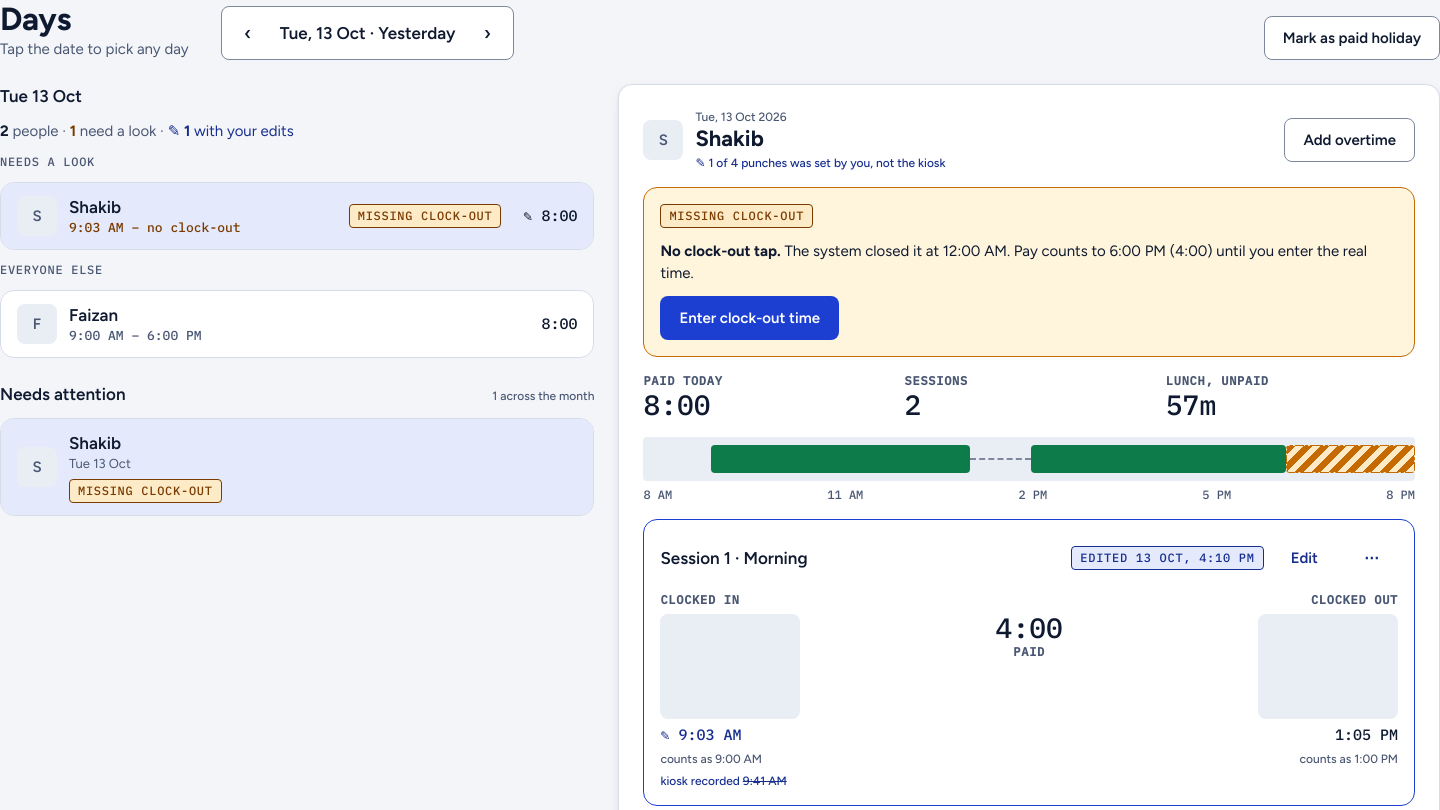
Test: Days › refuses a clock-out before the clock-in in the board's words, and writes nothing
The image size is (1440, 810).
Step 1. Click the button "Enter clock-out time" → {"x": 750, "y": 318}, box [660,296,839,340]
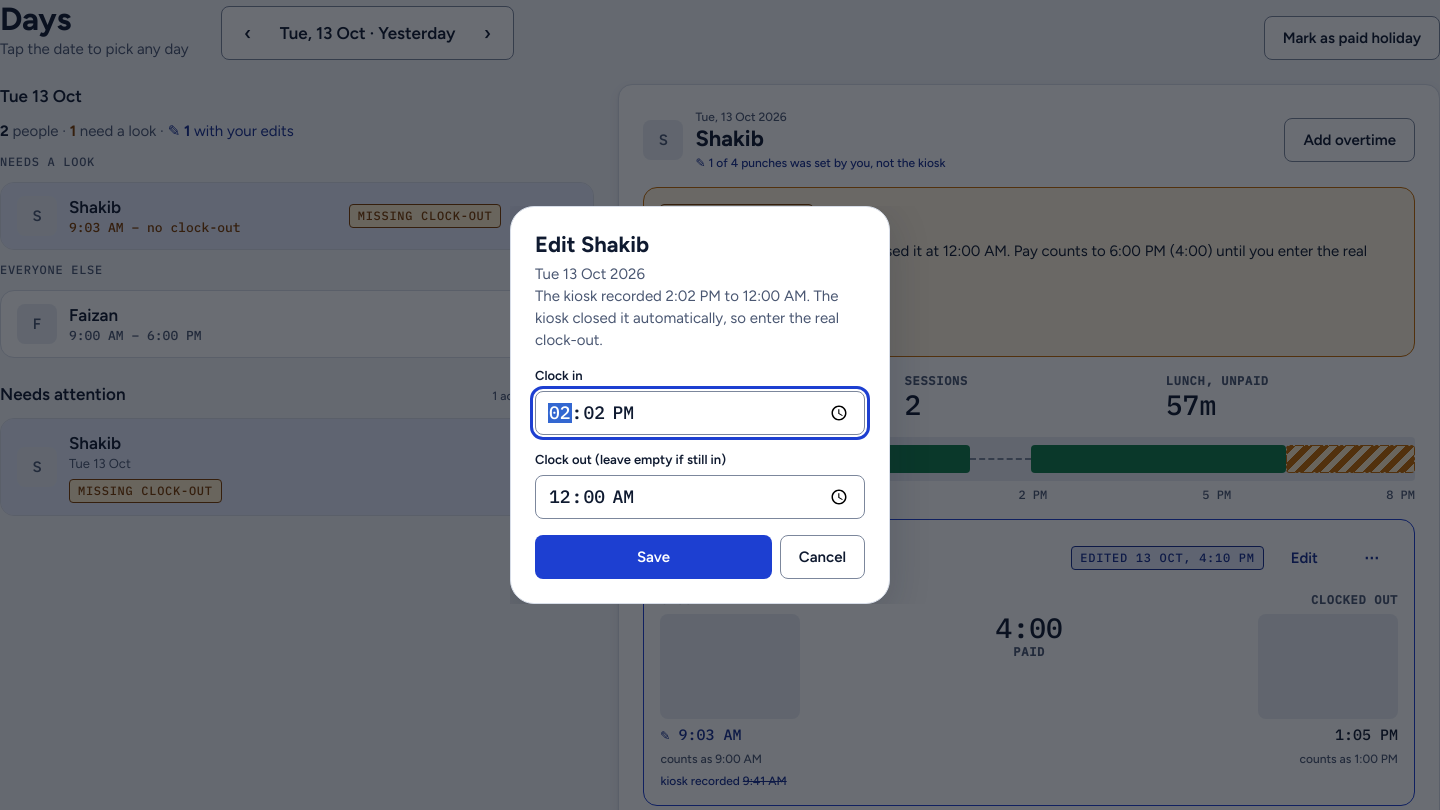
Now the dialog is shown, box [510,206,930,604]
Step 2. Replace the text in the time field labelled "Clock out (leave empty if still in)" with "13:30" → {"x": 700, "y": 497}, box [535,475,865,519]
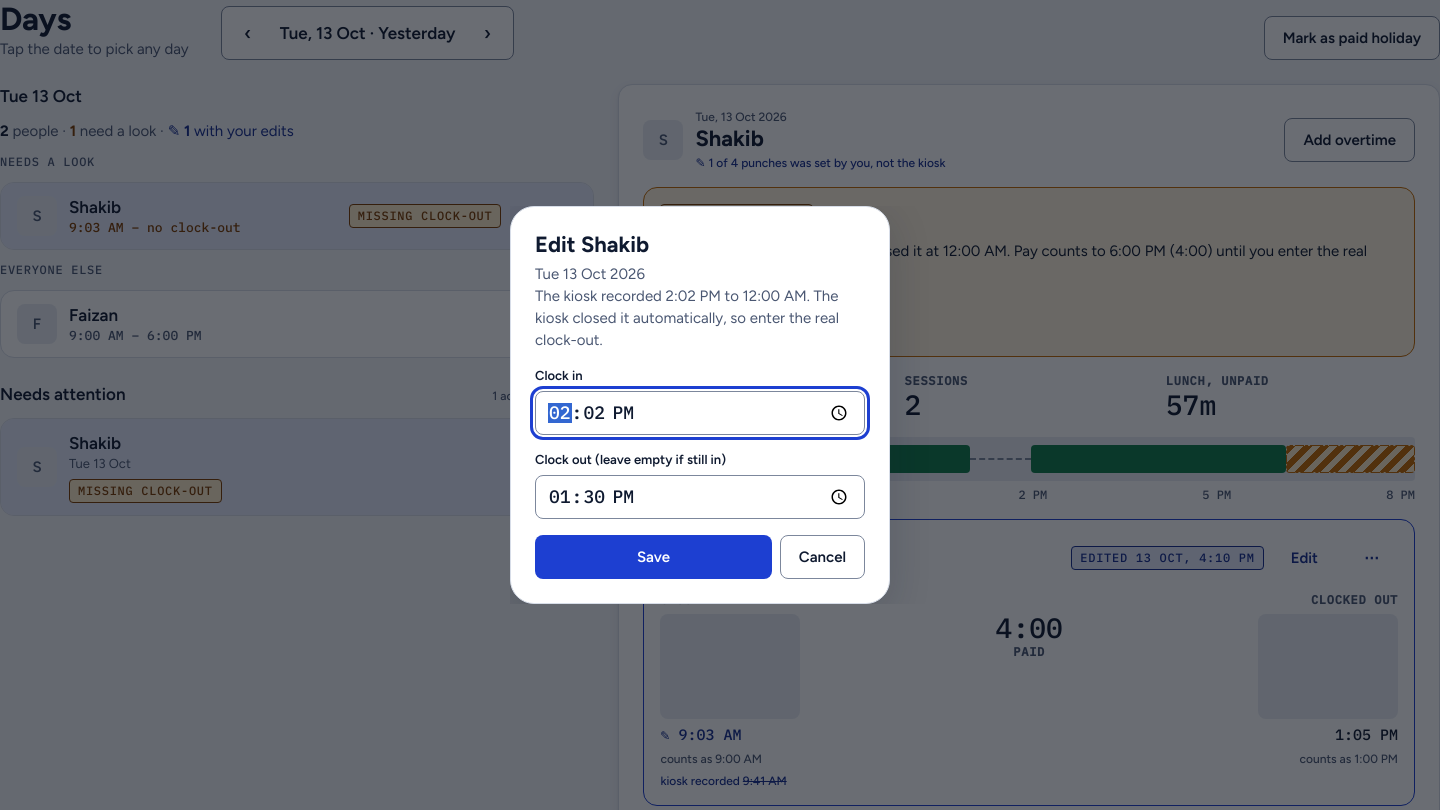
Step 3. Click the button "Save" → {"x": 653, "y": 557}, box [535,535,772,579]
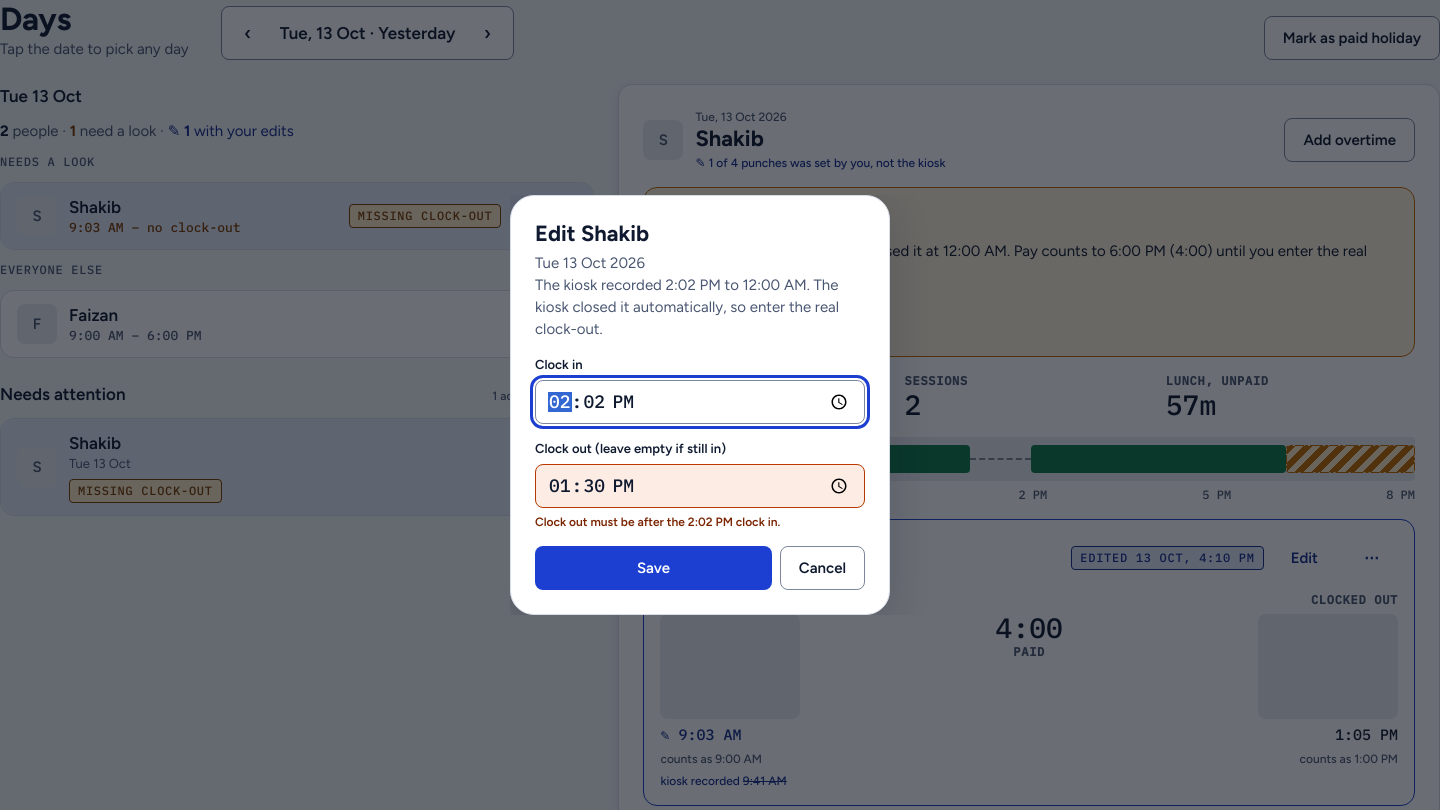
Now the text "Clock out must be after the 2:02 PM clock in." is shown, box [535,515,780,529]
